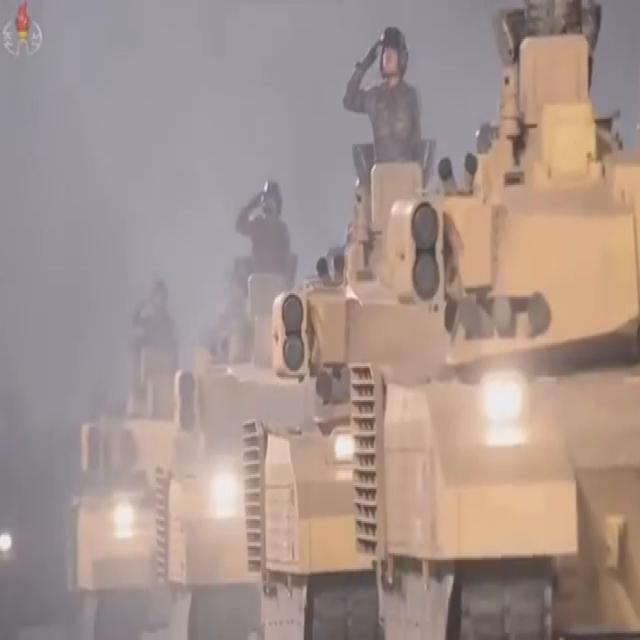north tank: (391, 64, 640, 636), (253, 244, 404, 640), (58, 329, 171, 640), (168, 287, 266, 640)
